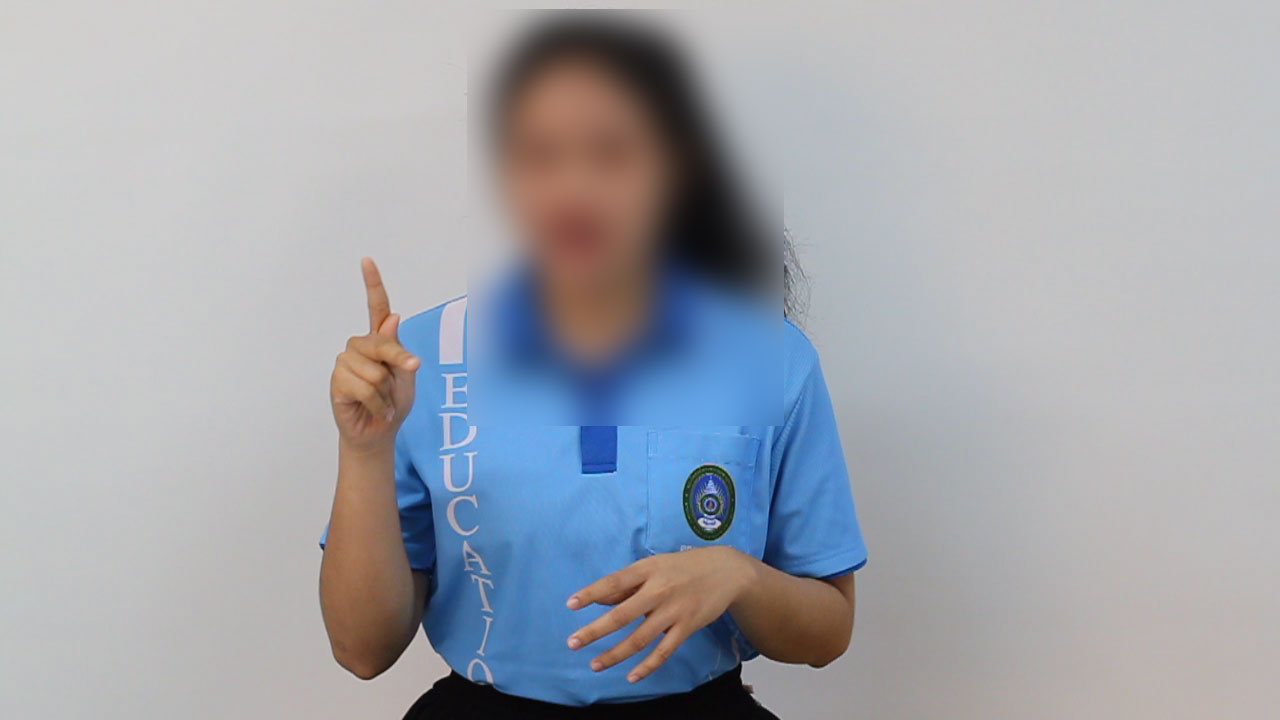ko: (264, 243, 501, 483)
